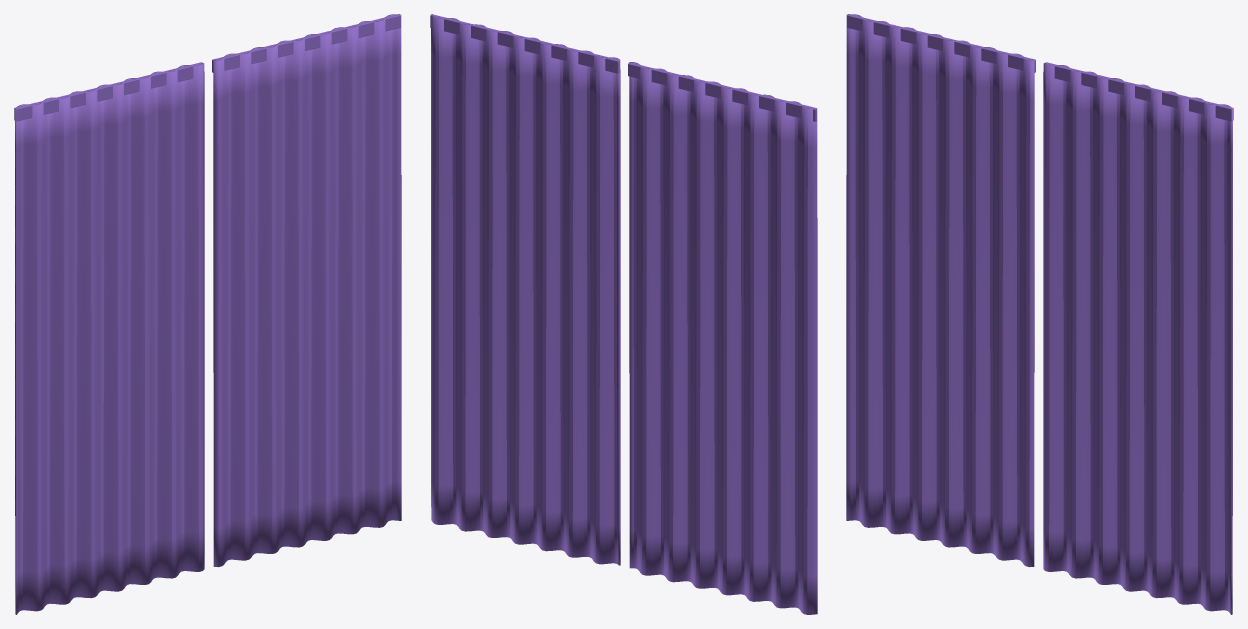
File: curtain_pair__102.glb
3 renders of one model, left to right at view 1: azimuth 30°, elevation 25°; view 2: azimuth 150°, elevation 25°; view 3: azimuth 330°, elevation 25°, orthographic.
Parts seen in each view (by area): view 1: curtain_pair__102; view 2: curtain_pair__102; view 3: curtain_pair__102.
Part boxes in pixels (x1,y1,x2,y2): curtain_pair__102: (14,14,401,614); curtain_pair__102: (430,14,817,614); curtain_pair__102: (846,14,1233,614).
Size of the model in its own units: 1.6 by 2 by 0.04.
